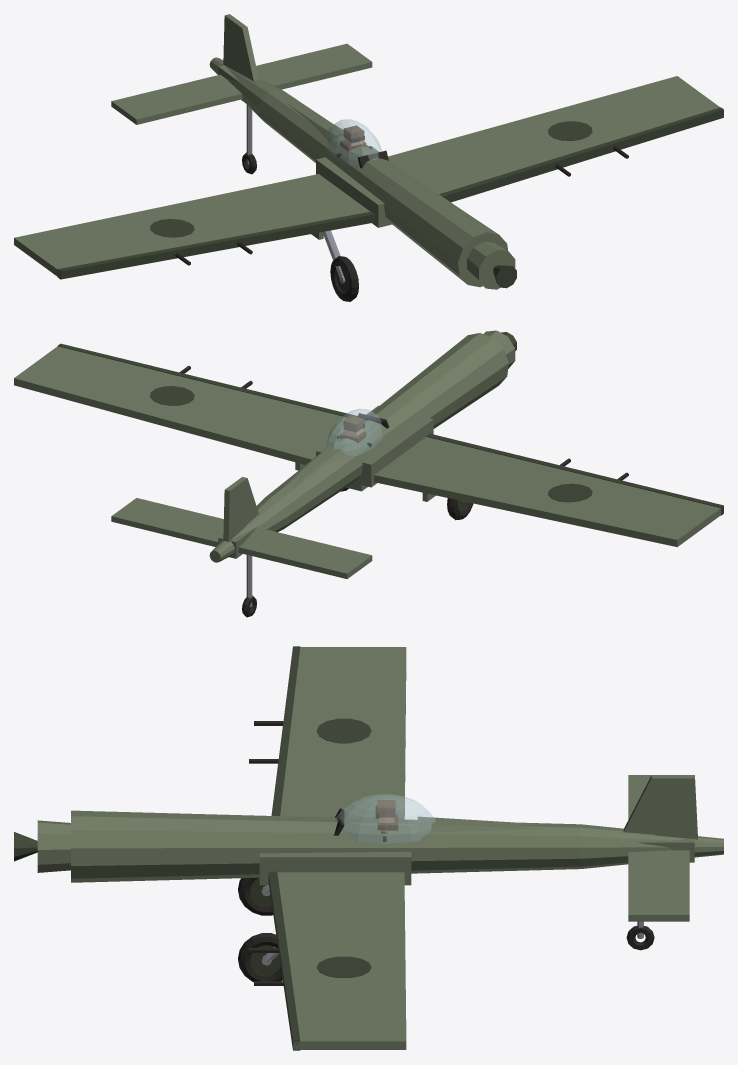
File: body.glb
3 renders of one model, top to bottom at view 1: azimuth 30°, elevation 25°; view 2: azimuth 150°, elevation 25°; view 3: azimuth 270°, elevation 25°, orthographic. The views are drawn at different scales.
Parts seen in each view (by area): view 1: wing_0, fuselage, wing_0_leading_edge, horizontal_stabilizer, canopy, wing_root_fairing, vertical_fin, engine_nose, tail_cone, tire, turtledeck, roundel_0_r (+1 smaller); view 2: wing_0, fuselage, horizontal_stabilizer, wing_0_leading_edge, canopy, wing_root_fairing, tail_cone, vertical_fin, turtledeck, roundel_0_r, roundel_0_l; view 3: wing_0, fuselage, horizontal_stabilizer, canopy, vertical_fin, wing_root_fairing, wing_0_leading_edge, tail_cone, engine_nose, tire (×2), turtledeck, roundel_0_l (+1 smaller).
Part boxes in pixels (x1=…): wing_0: x1=14, y1=76, x2=719, y2=278; fuselage: x1=258, y1=89, x2=507, y2=287; wing_0_leading_edge: x1=57, y1=107, x2=723, y2=279; horizontal_stabilizer: x1=111, y1=43, x2=372, y2=124; canopy: x1=326, y1=119, x2=381, y2=165; wing_root_fairing: x1=316, y1=146, x2=418, y2=227; vertical_fin: x1=223, y1=14, x2=258, y2=80; engine_nose: x1=467, y1=241, x2=515, y2=289; tail_cone: x1=209, y1=57, x2=282, y2=120; tire: x1=330, y1=256, x2=358, y2=301; turtledeck: x1=240, y1=74, x2=343, y2=142; roundel_0_r: x1=548, y1=121, x2=592, y2=140; wing_0: x1=14, y1=346, x2=720, y2=547; fuselage: x1=265, y1=333, x2=508, y2=528; horizontal_stabilizer: x1=111, y1=498, x2=372, y2=578; wing_0_leading_edge: x1=58, y1=343, x2=723, y2=515; canopy: x1=326, y1=409, x2=382, y2=455; wing_root_fairing: x1=316, y1=405, x2=433, y2=487; tail_cone: x1=209, y1=496, x2=289, y2=562; vertical_fin: x1=223, y1=477, x2=258, y2=541; turtledeck: x1=246, y1=441, x2=351, y2=526; roundel_0_r: x1=150, y1=386, x2=194, y2=405; roundel_0_l: x1=548, y1=483, x2=592, y2=502; wing_0: x1=277, y1=647, x2=406, y2=1049; fuselage: x1=71, y1=810, x2=580, y2=882; horizontal_stabilizer: x1=628, y1=775, x2=689, y2=921; canopy: x1=334, y1=794, x2=435, y2=843; vertical_fin: x1=623, y1=775, x2=697, y2=839; wing_root_fairing: x1=259, y1=851, x2=411, y2=885; wing_0_leading_edge: x1=268, y1=646, x2=300, y2=1050; tail_cone: x1=581, y1=824, x2=723, y2=868; engine_nose: x1=37, y1=820, x2=70, y2=872; tire (×2): x1=238, y1=877, x2=282, y2=982; turtledeck: x1=417, y1=816, x2=655, y2=836; roundel_0_l: x1=316, y1=718, x2=371, y2=743.
Size of the model in its own units: 12.61 by 2.59 by 9.6.
